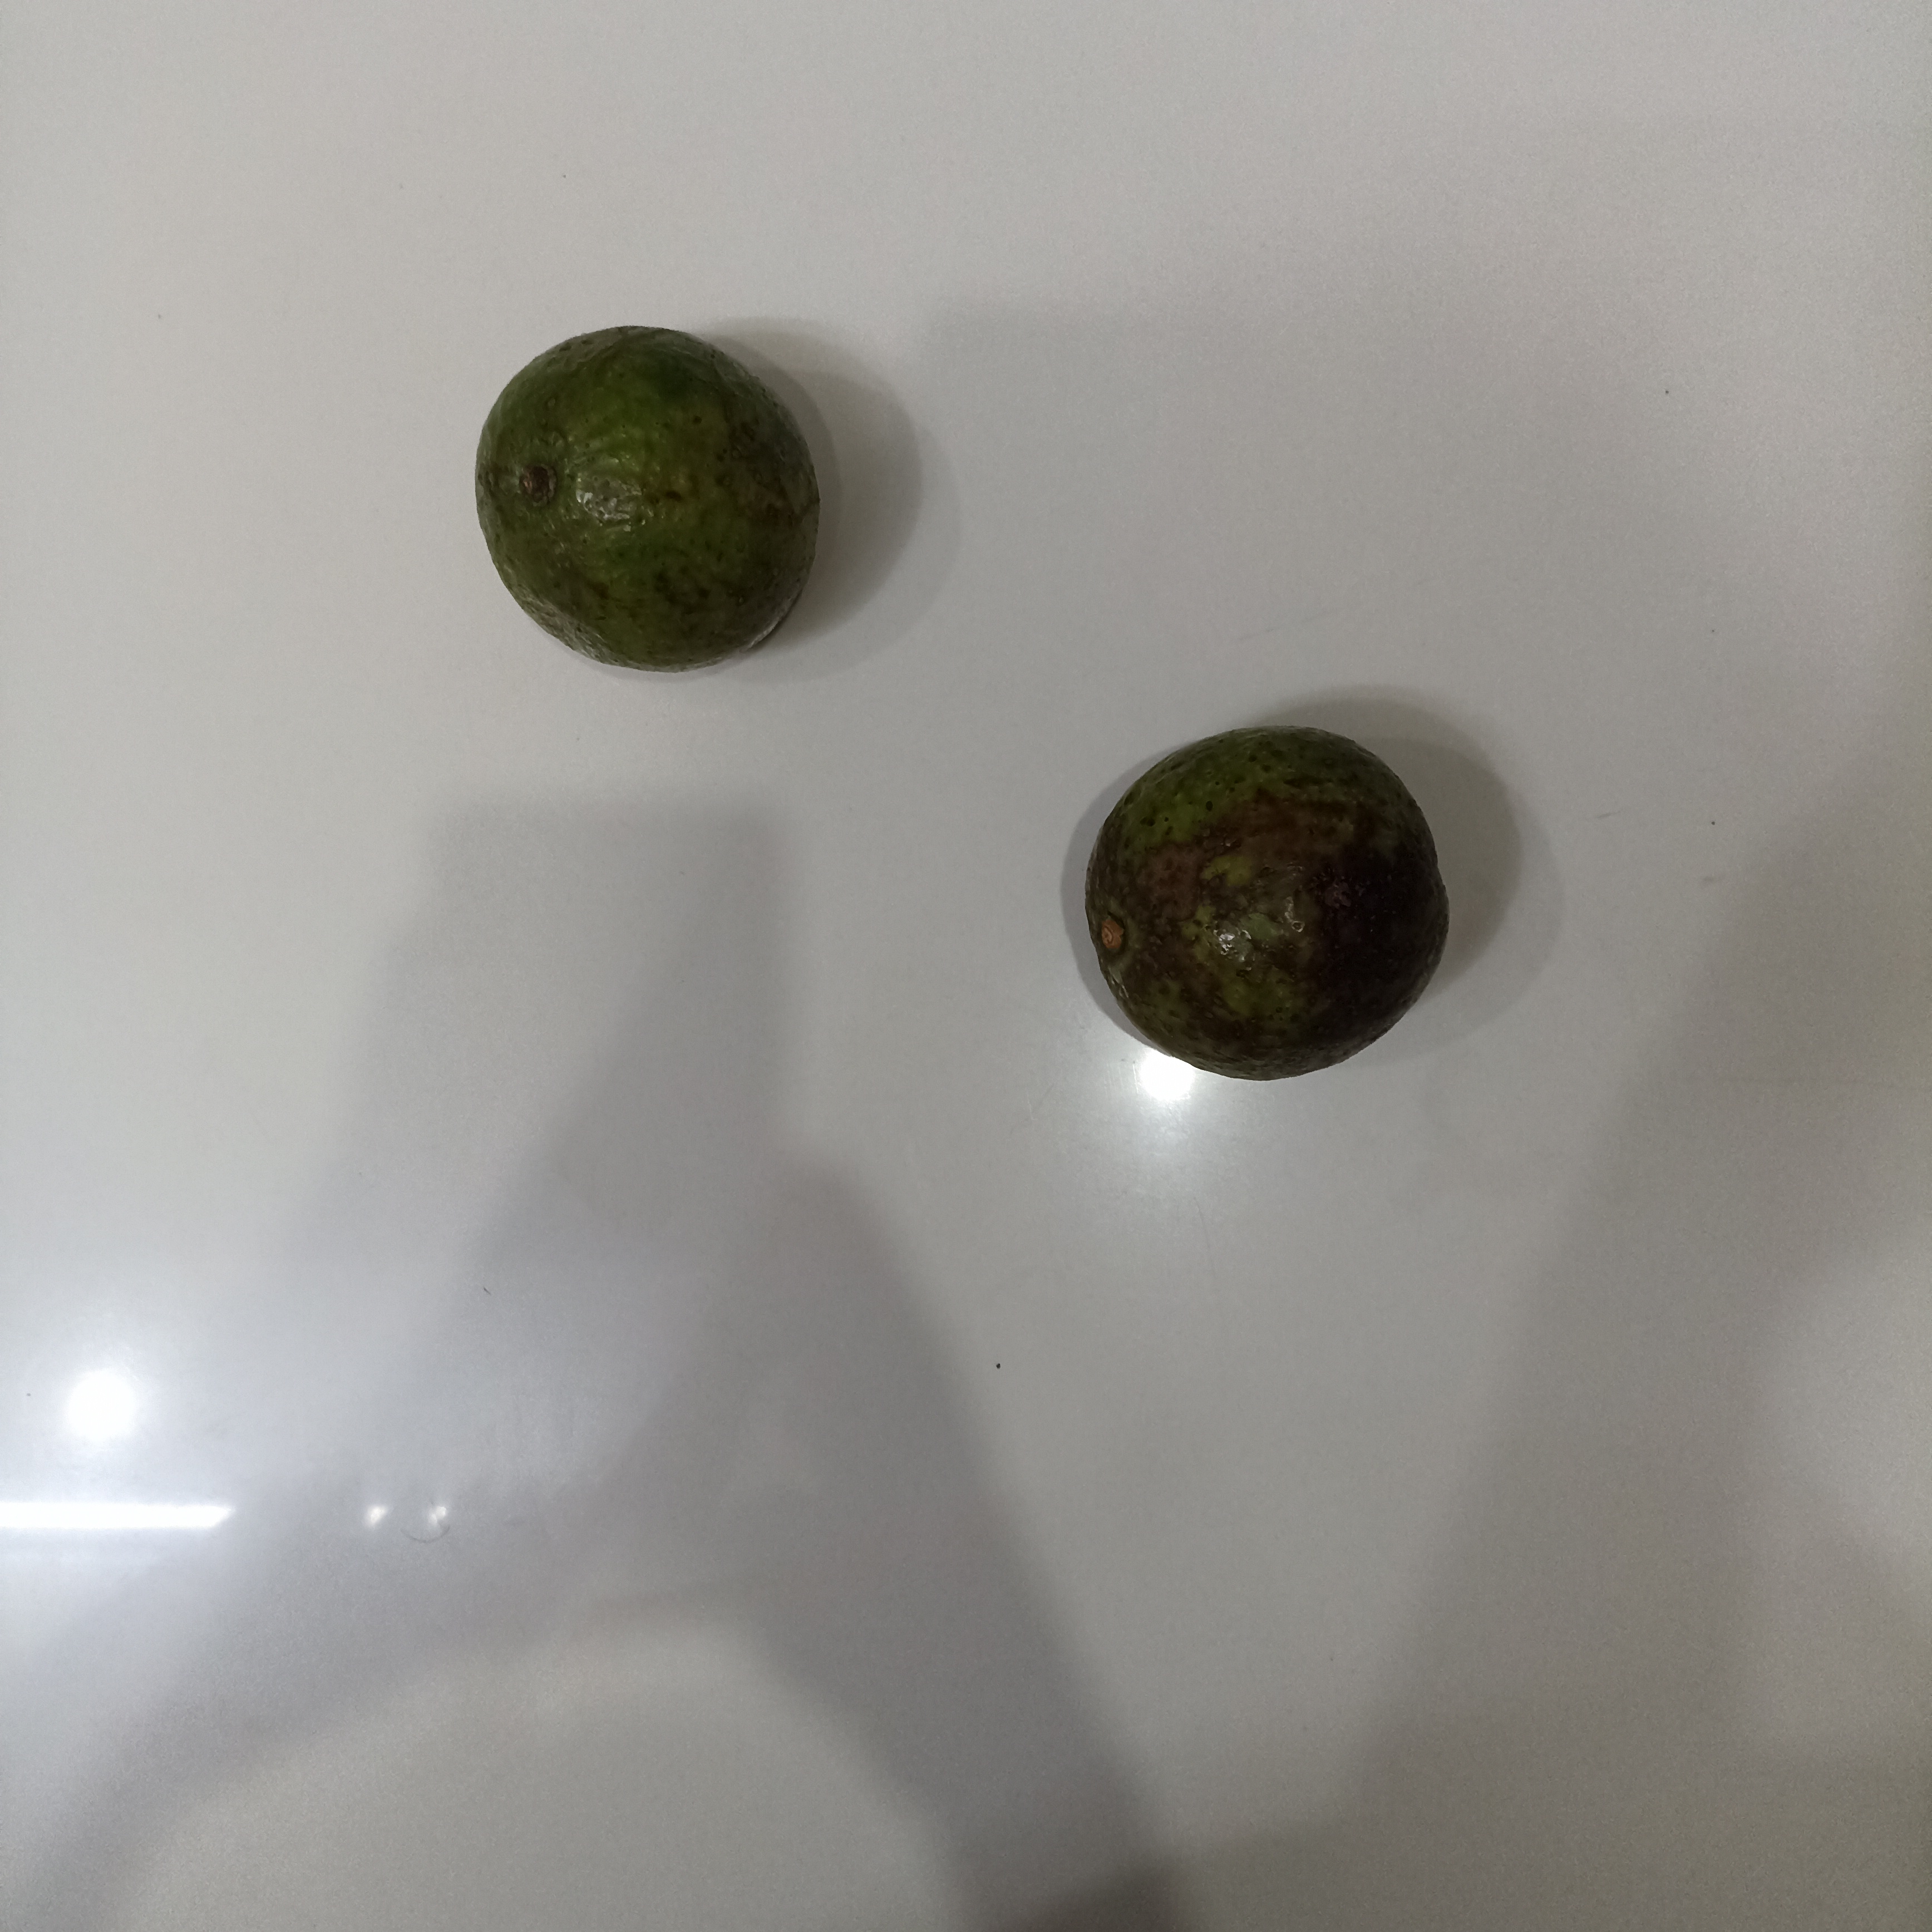Bo: (1084, 730, 1445, 1078), (469, 326, 822, 676)
